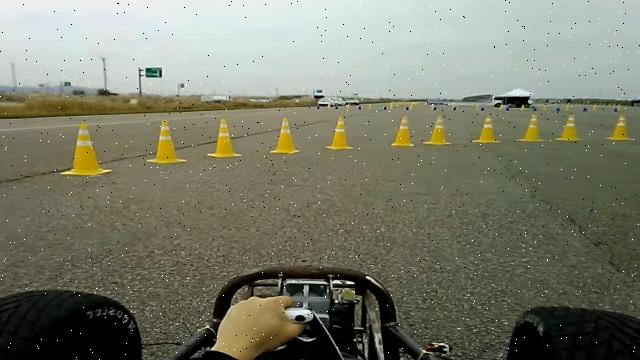yellow cone: (60, 123, 113, 176), (146, 119, 187, 164), (207, 117, 243, 158), (270, 117, 301, 155), (326, 116, 354, 150), (424, 114, 453, 145), (516, 113, 546, 142), (473, 114, 501, 144), (555, 114, 583, 142), (606, 113, 632, 141), (392, 114, 414, 146)
